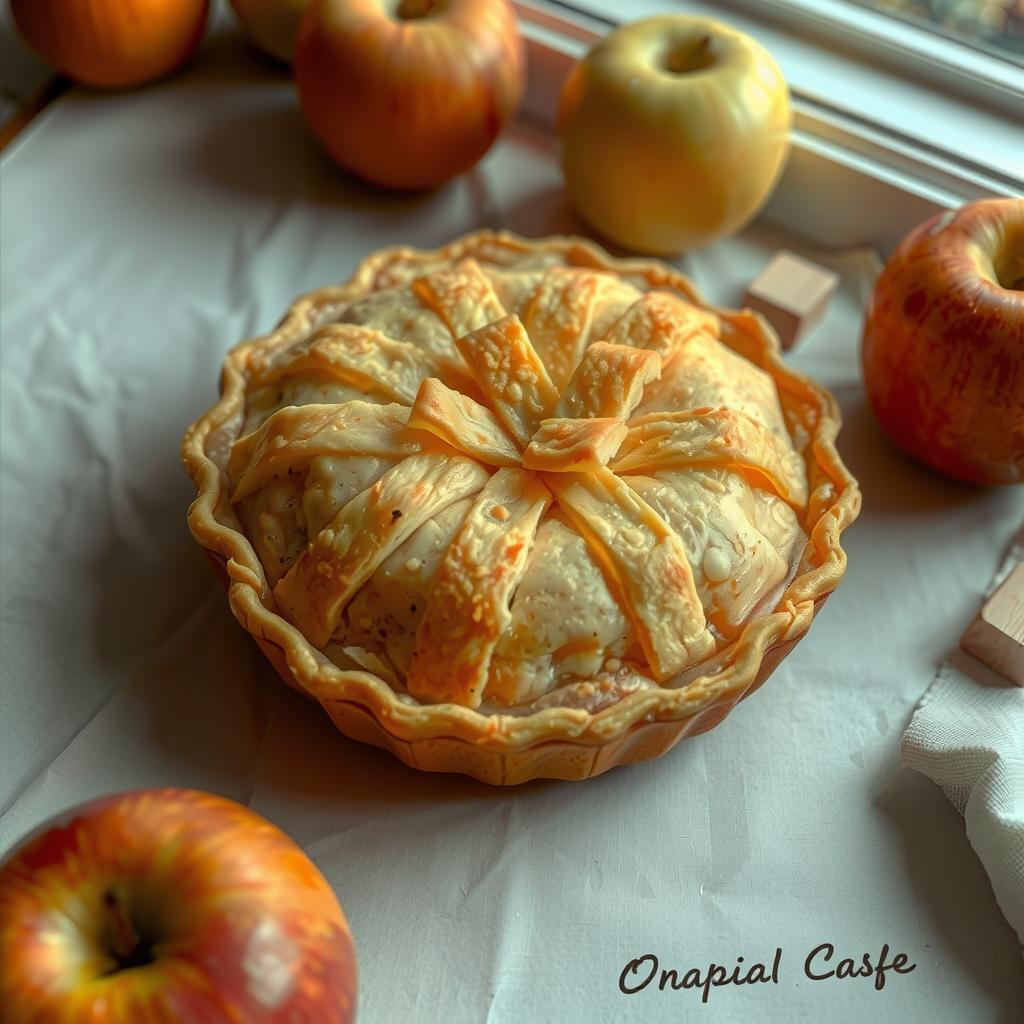pie: (171, 226, 876, 790)
